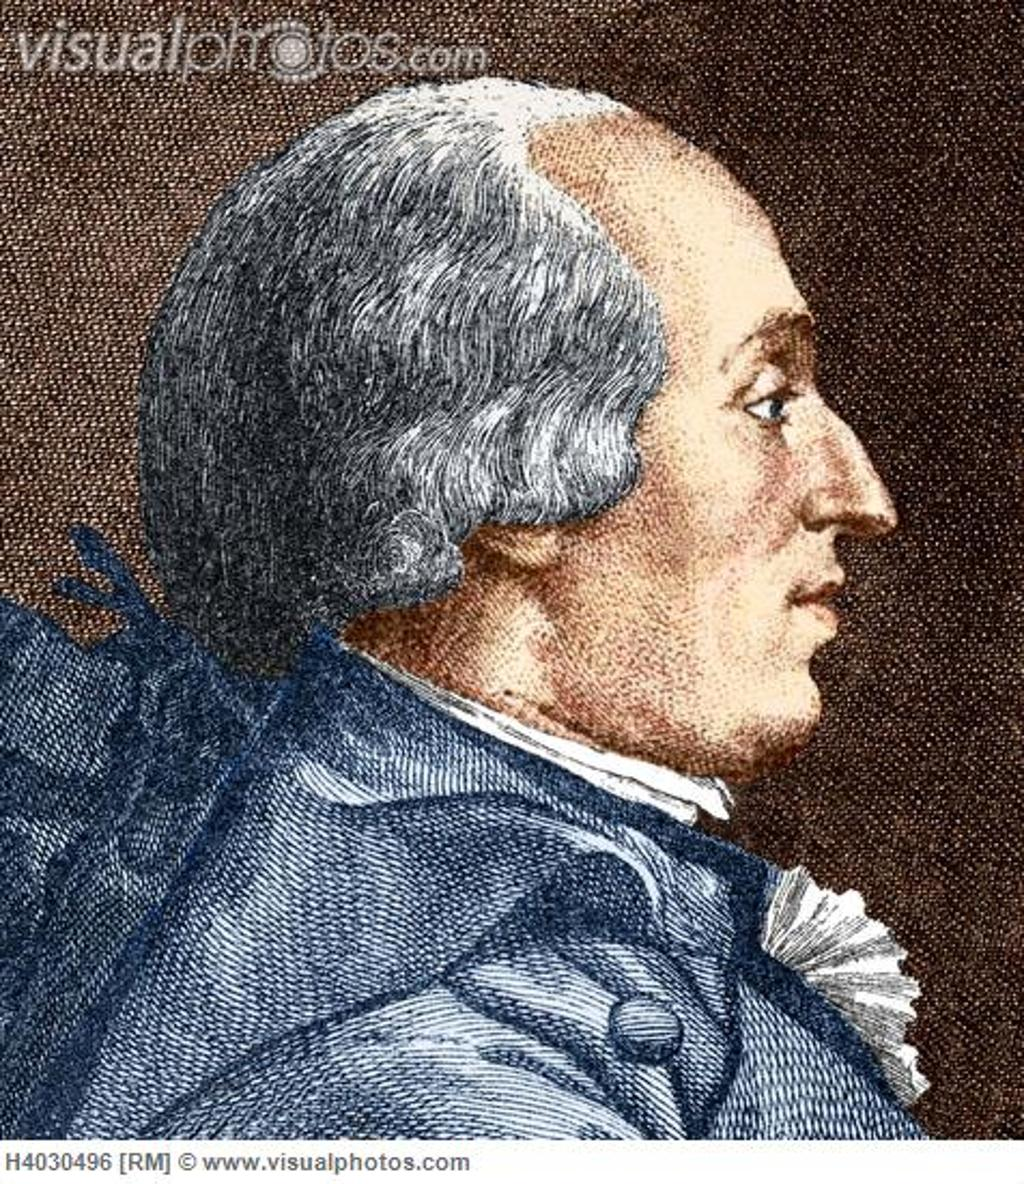face: (529, 97, 855, 744)
